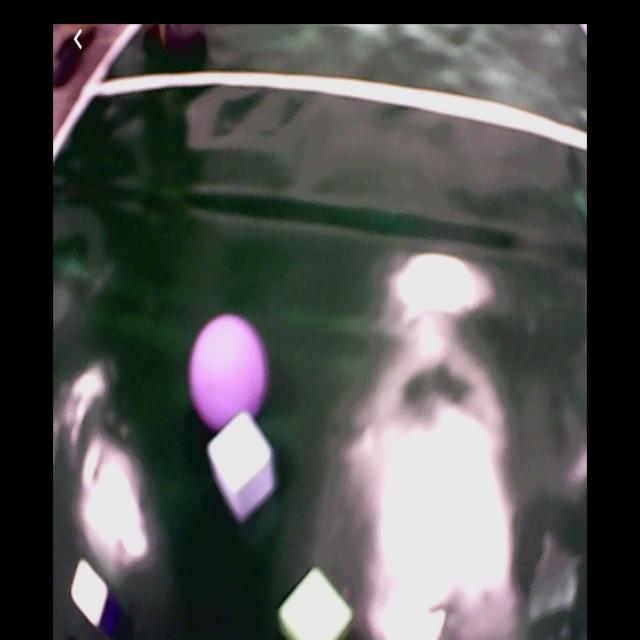ball: (191, 314, 268, 426)
